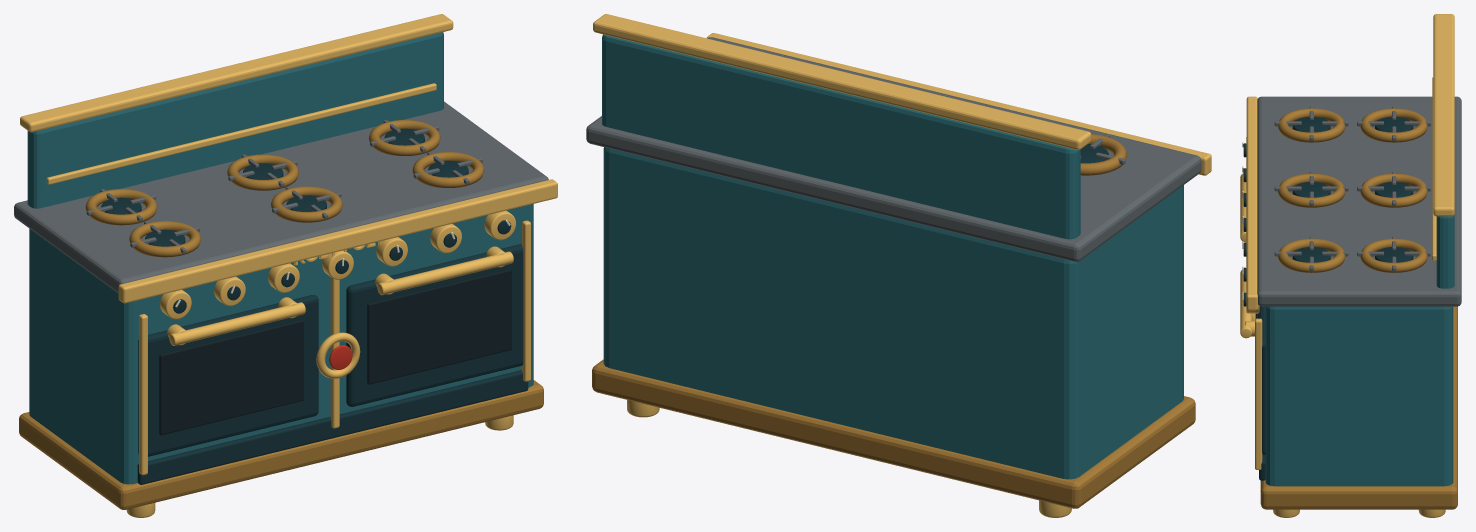
Rendered from DistinctOven.glb.
The picture shows the model from 3 angles, left to right: view 1: azimuth 30°, elevation 25°; view 2: azimuth 150°, elevation 25°; view 3: azimuth 270°, elevation 25°; orthographic projection. The views are drawn at different scales.
Visible parts, largest first — view 1: DistinctOven_MainBody, DistinctOven_Cooktop, DistinctOven_Backguard, DistinctOven_BasePlinth, DistinctOven_RightWindow, DistinctOven_LeftWindow, DistinctOven_FrontLip, DistinctOven_KickPlate, DistinctOven_BackguardCrown, DistinctOven_RightDoor, DistinctOven_LeftDoor, DistinctOven_BackguardStripe (+12 smaller); view 2: DistinctOven_MainBody, DistinctOven_Backguard, DistinctOven_Cooktop, DistinctOven_BasePlinth, DistinctOven_BackguardCrown, DistinctOven_FrontLip, DistinctOven_BurnerRing_1; view 3: DistinctOven_MainBody, DistinctOven_Cooktop, DistinctOven_BasePlinth, DistinctOven_BackguardCrown, DistinctOven_FrontLip, DistinctOven_Backguard, DistinctOven_BurnerRing_5, DistinctOven_BurnerRing_2, DistinctOven_BurnerRing_4, DistinctOven_BurnerRing_1, DistinctOven_BurnerRing_6, DistinctOven_BurnerRing_3 (+11 smaller).
Boxes of the visible parts, x1,y1,x2,y2 form: DistinctOven_MainBody: (29,204,533,484); DistinctOven_Cooktop: (14,101,548,293); DistinctOven_Backguard: (27,32,443,208); DistinctOven_BasePlinth: (19,380,543,509); DistinctOven_RightWindow: (367,269,511,384); DistinctOven_LeftWindow: (159,320,303,435); DistinctOven_FrontLip: (118,179,557,303); DistinctOven_KickPlate: (137,370,528,484); DistinctOven_BackguardCrown: (20,14,453,132); DistinctOven_RightDoor: (346,244,523,406); DistinctOven_LeftDoor: (138,295,318,456); DistinctOven_BackguardStripe: (46,83,436,184); DistinctOven_MainBody: (603,147,1183,479); DistinctOven_Backguard: (602,34,1080,239); DistinctOven_Cooktop: (586,37,1201,261); DistinctOven_BasePlinth: (592,359,1195,508); DistinctOven_BackguardCrown: (593,14,1091,150); DistinctOven_FrontLip: (707,33,1211,175); DistinctOven_BurnerRing_1: (1080,134,1126,175); DistinctOven_MainBody: (1265,306,1453,486); DistinctOven_Cooktop: (1257,96,1461,306); DistinctOven_BasePlinth: (1260,306,1457,509); DistinctOven_BackguardCrown: (1433,14,1454,216); DistinctOven_FrontLip: (1246,96,1257,310); DistinctOven_Backguard: (1436,214,1454,288); DistinctOven_BurnerRing_5: (1278,238,1345,272); DistinctOven_BurnerRing_2: (1360,108,1427,142); DistinctOven_BurnerRing_4: (1360,173,1427,207); DistinctOven_BurnerRing_1: (1278,108,1345,142); DistinctOven_BurnerRing_6: (1360,238,1427,272); DistinctOven_BurnerRing_3: (1278,173,1345,207).
Size of the model in its own units: 8.45 by 6.3 by 3.95.
